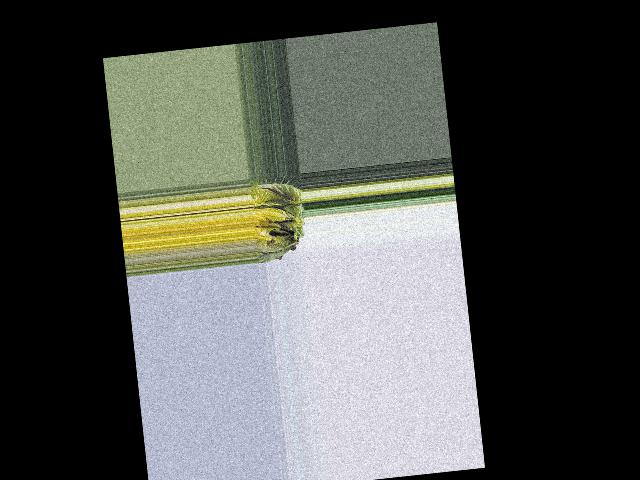lettuce: (248, 173, 307, 260)
